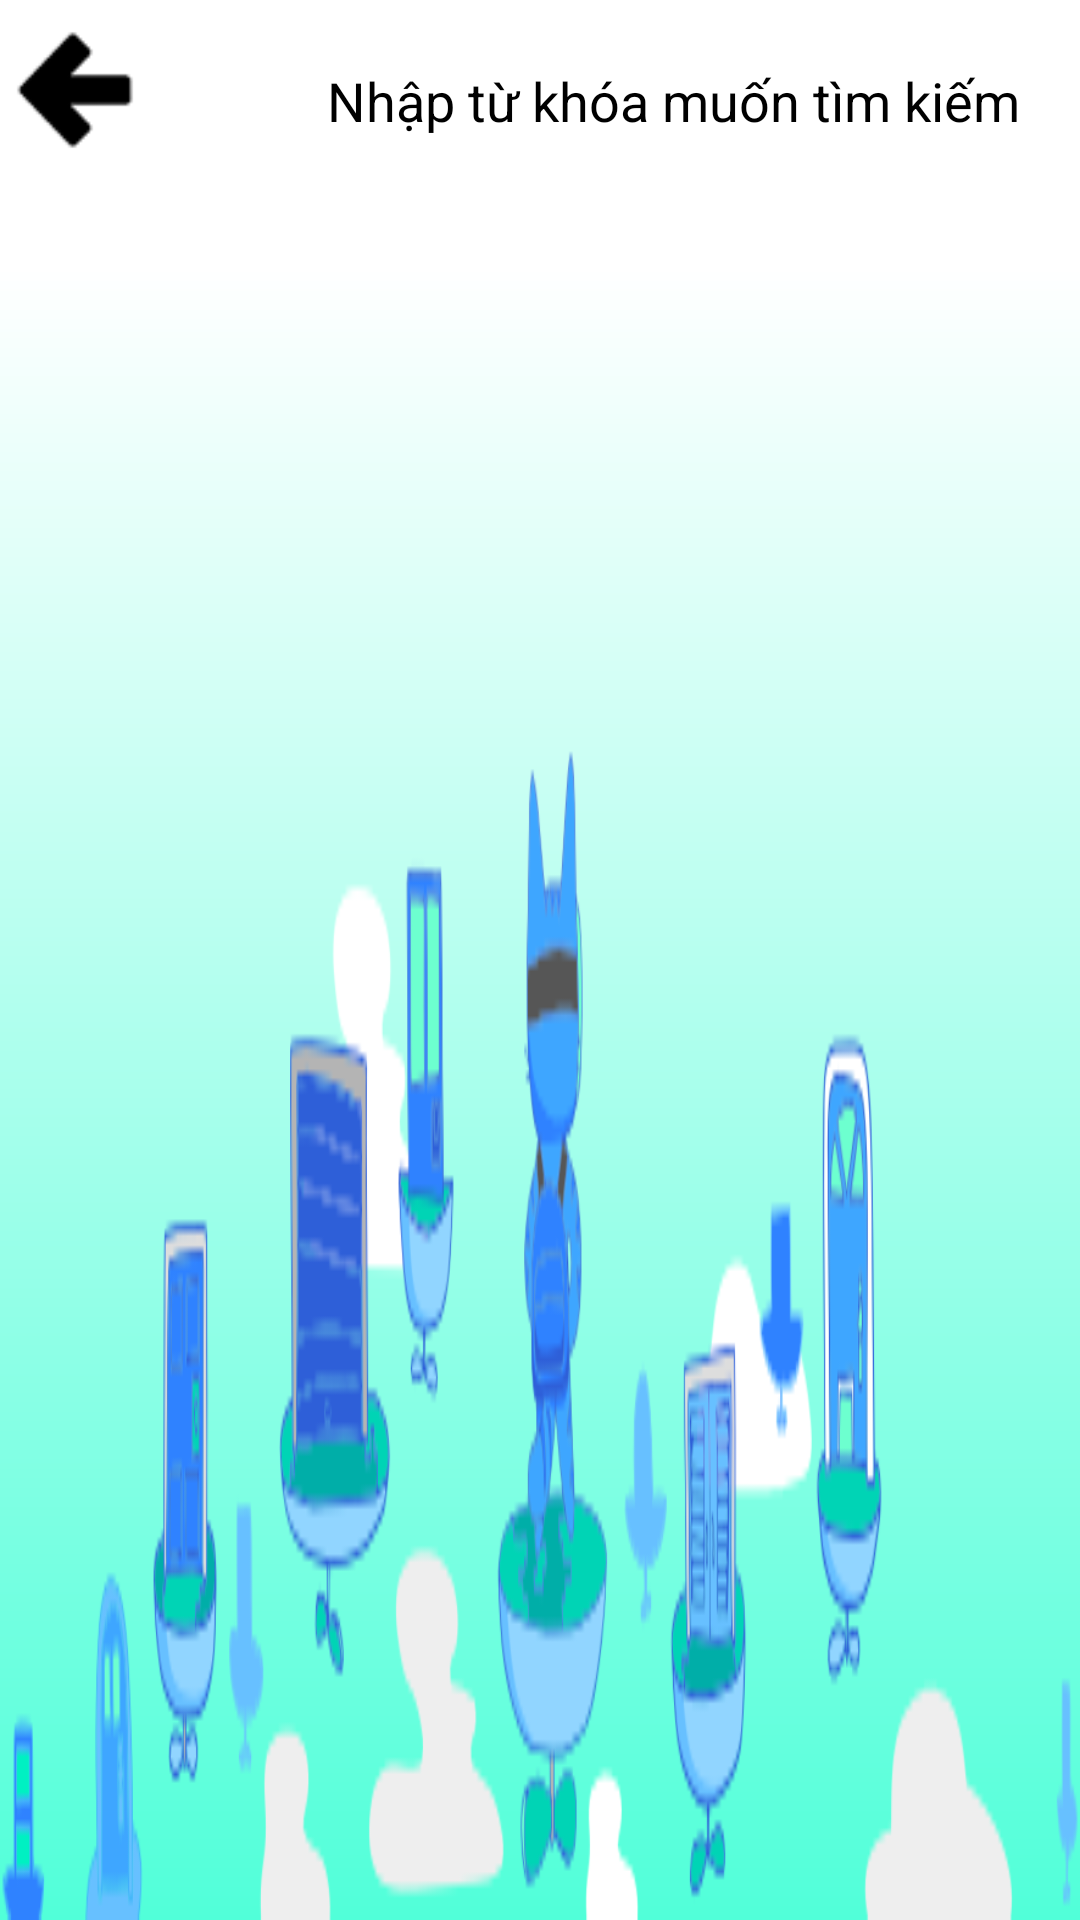

Named icons in this screenshot (1080*1920) and their centers, (x,y):
back kids: (75,90)
